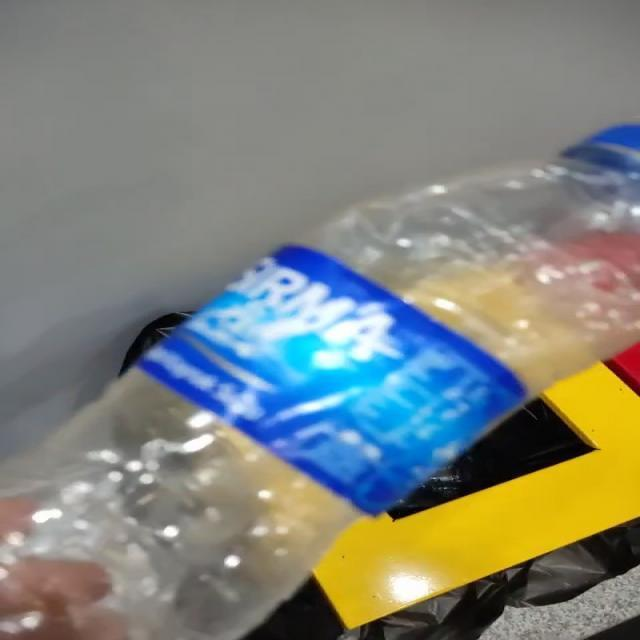Plastic: (3, 127, 640, 640)
